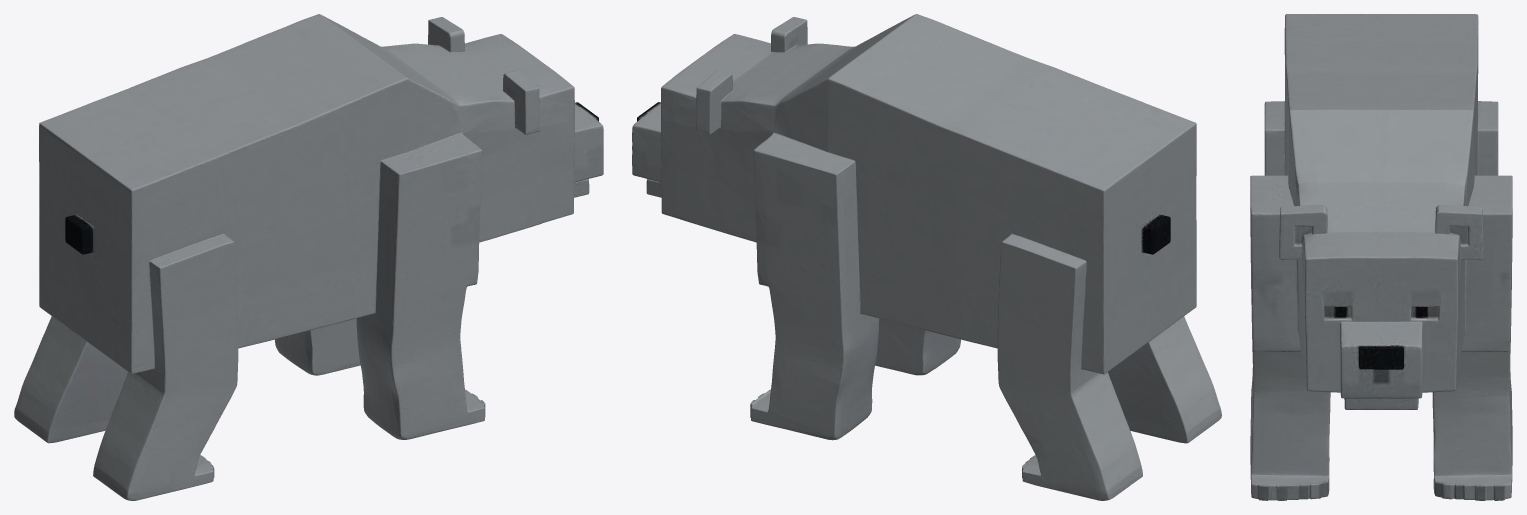
The model's file is polar-bear-compressed.glb.
The picture shows the model from 3 angles, left to right: view 1: azimuth 30°, elevation 25°; view 2: azimuth 150°, elevation 25°; view 3: azimuth 270°, elevation 25°; orthographic projection. The views are drawn at different scales.
Parts seen in each view (by area): view 1: tripo_node_6bdfa3c5-cc22-4808-a53b-866cbef6aa23; view 2: tripo_node_6bdfa3c5-cc22-4808-a53b-866cbef6aa23; view 3: tripo_node_6bdfa3c5-cc22-4808-a53b-866cbef6aa23.
Boxes of the visible parts, x1,y1,x2,y2 form: tripo_node_6bdfa3c5-cc22-4808-a53b-866cbef6aa23: (14,14,603,500); tripo_node_6bdfa3c5-cc22-4808-a53b-866cbef6aa23: (632,14,1221,500); tripo_node_6bdfa3c5-cc22-4808-a53b-866cbef6aa23: (1250,14,1512,500).
Bounding box in the file's own units: 32766 × 20797 × 13813.
Materials: 1 (1 with a texture image).
